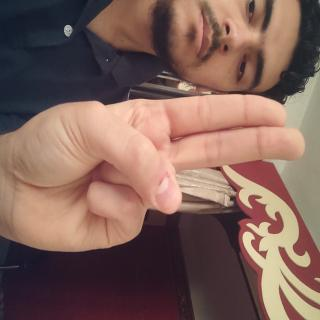TA: (66, 15, 192, 320)
